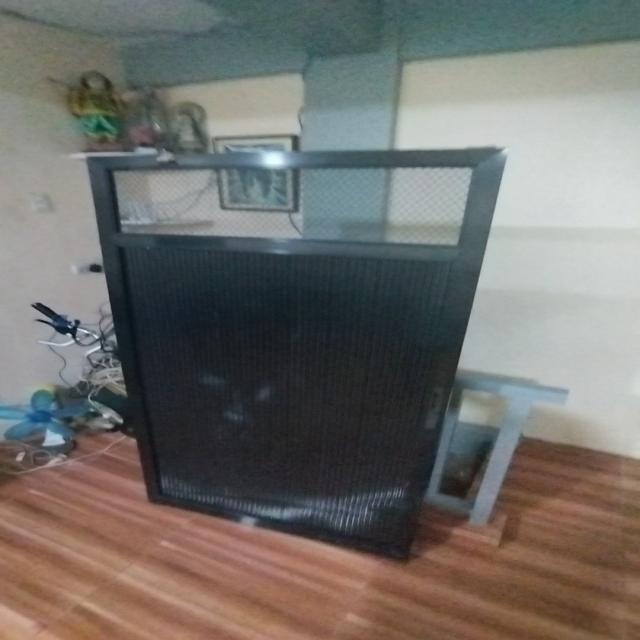door: (76, 144, 490, 563)
